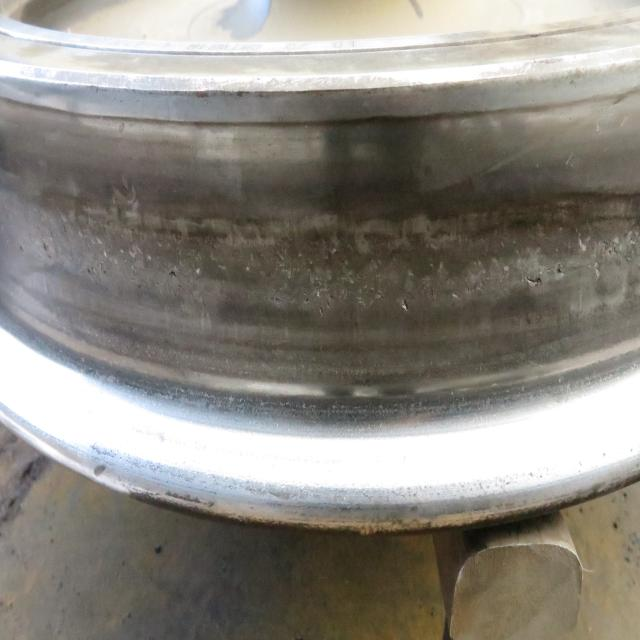Peeling: (527, 275, 543, 287), (402, 297, 411, 313), (557, 261, 565, 278), (170, 268, 178, 280), (432, 286, 437, 302)
